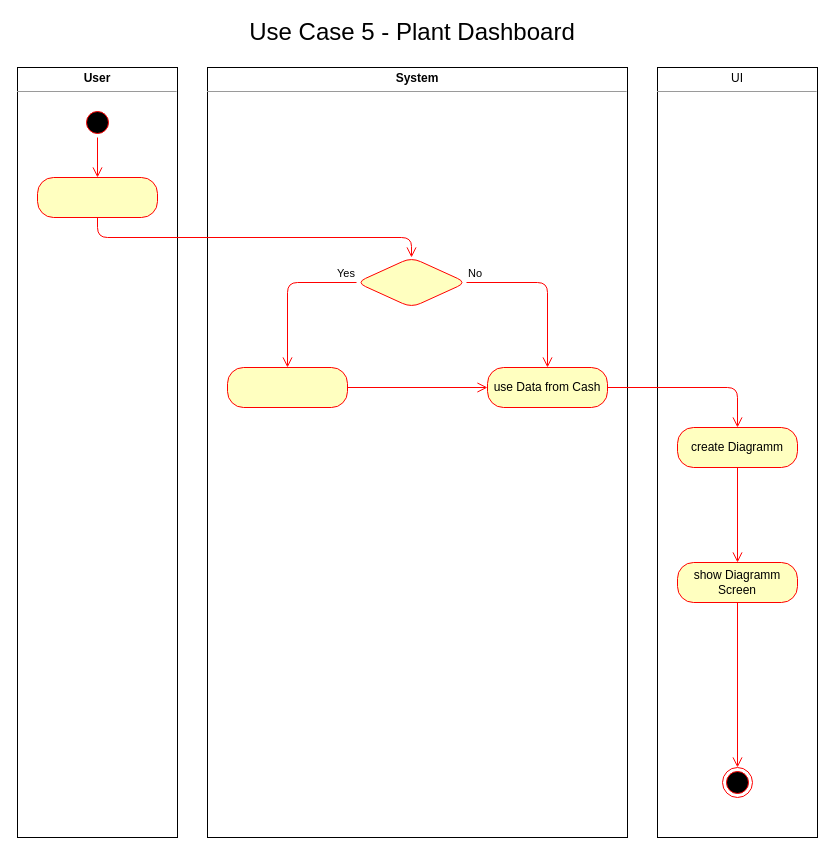
Image size: 835x855. Some labels were removed from this diagram. The box of each missing label's shape, as (x1, y1, x2, y2) in pixels:
download new Data from Database: (226, 366, 348, 408)
klick on "Dashboard": (36, 176, 158, 218)
need new Data: (356, 256, 466, 308)
